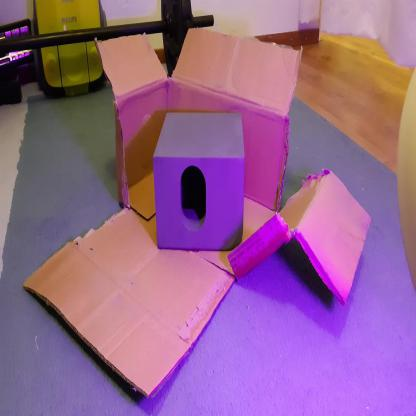CornerCasting: (150, 106, 248, 259)
